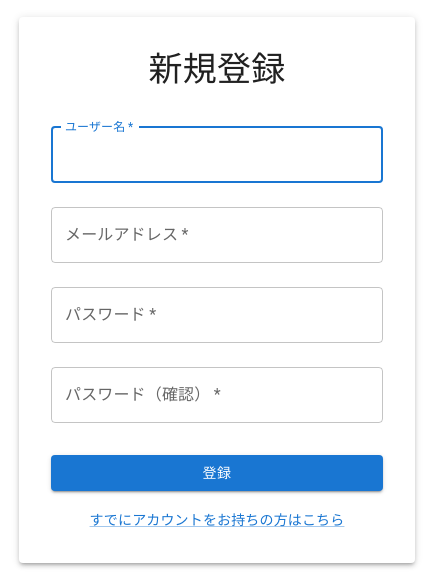
Register › disables form fields and button during loading
The image size is (435, 585).
In the field named "username": (217, 155) [51,127,383,183], type "testuser"
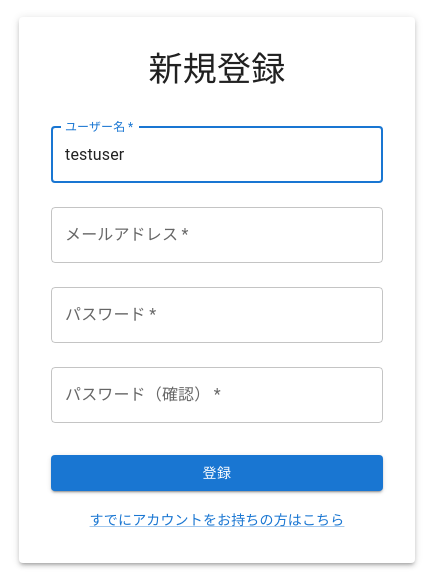
In the field named "email": (217, 235) [51,207,383,263], type "test@example.com"
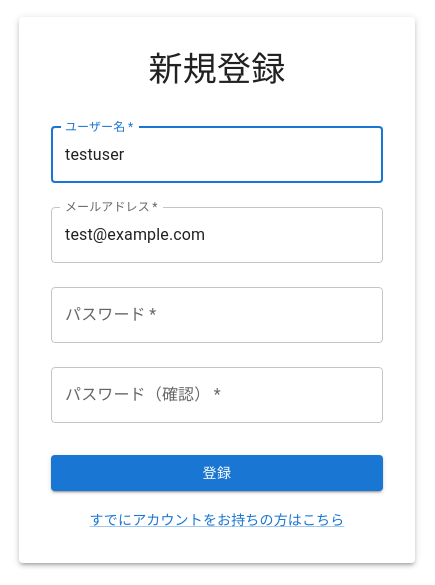
In the password field named "password": (217, 315) [51,287,383,343], type "password123"
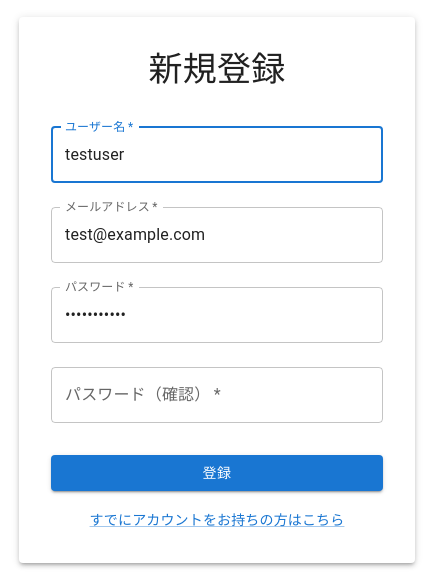
In the password field named "confirmPassword": (217, 395) [51,367,383,423], type "password123"
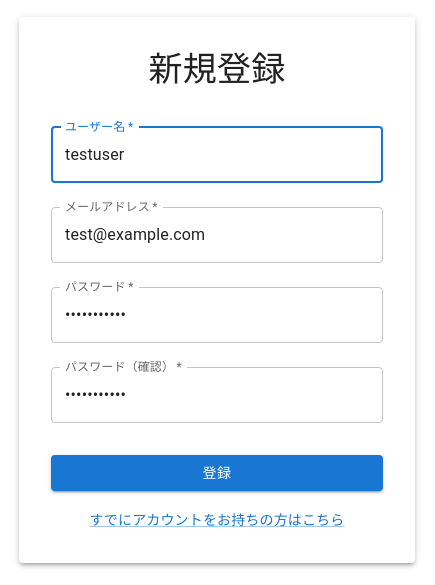
Click the button "登録": (217, 473) [51,455,383,491]
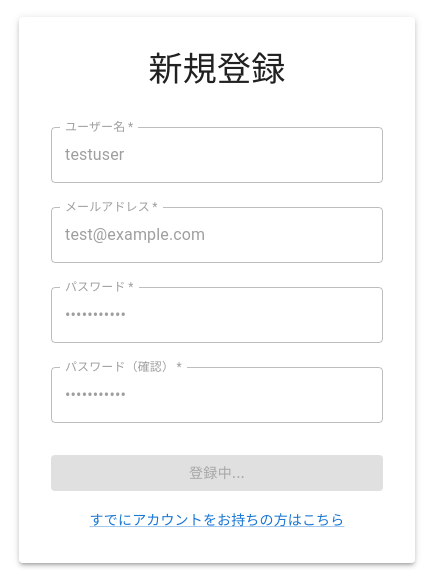
Expected: the button "登録中..." is shown, [51,455,383,491]
Expected: the field named "username" is disabled, [51,127,383,183]
Expected: the field named "email" is disabled, [51,207,383,263]
